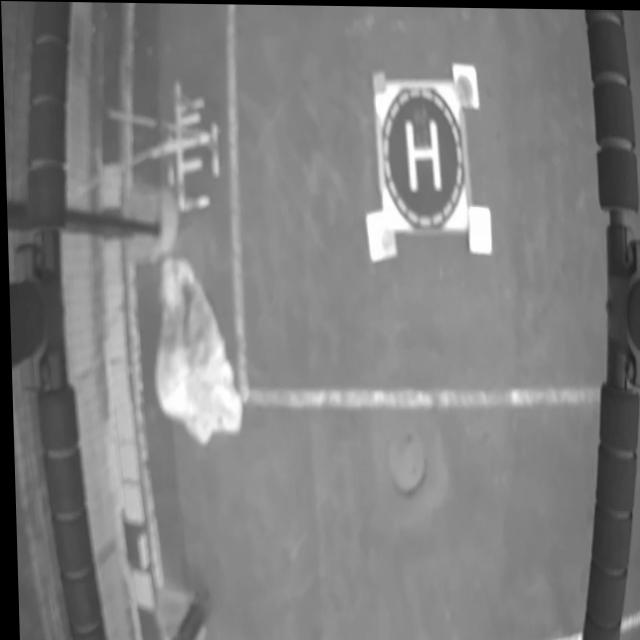Helipad: (402, 109, 441, 194)
